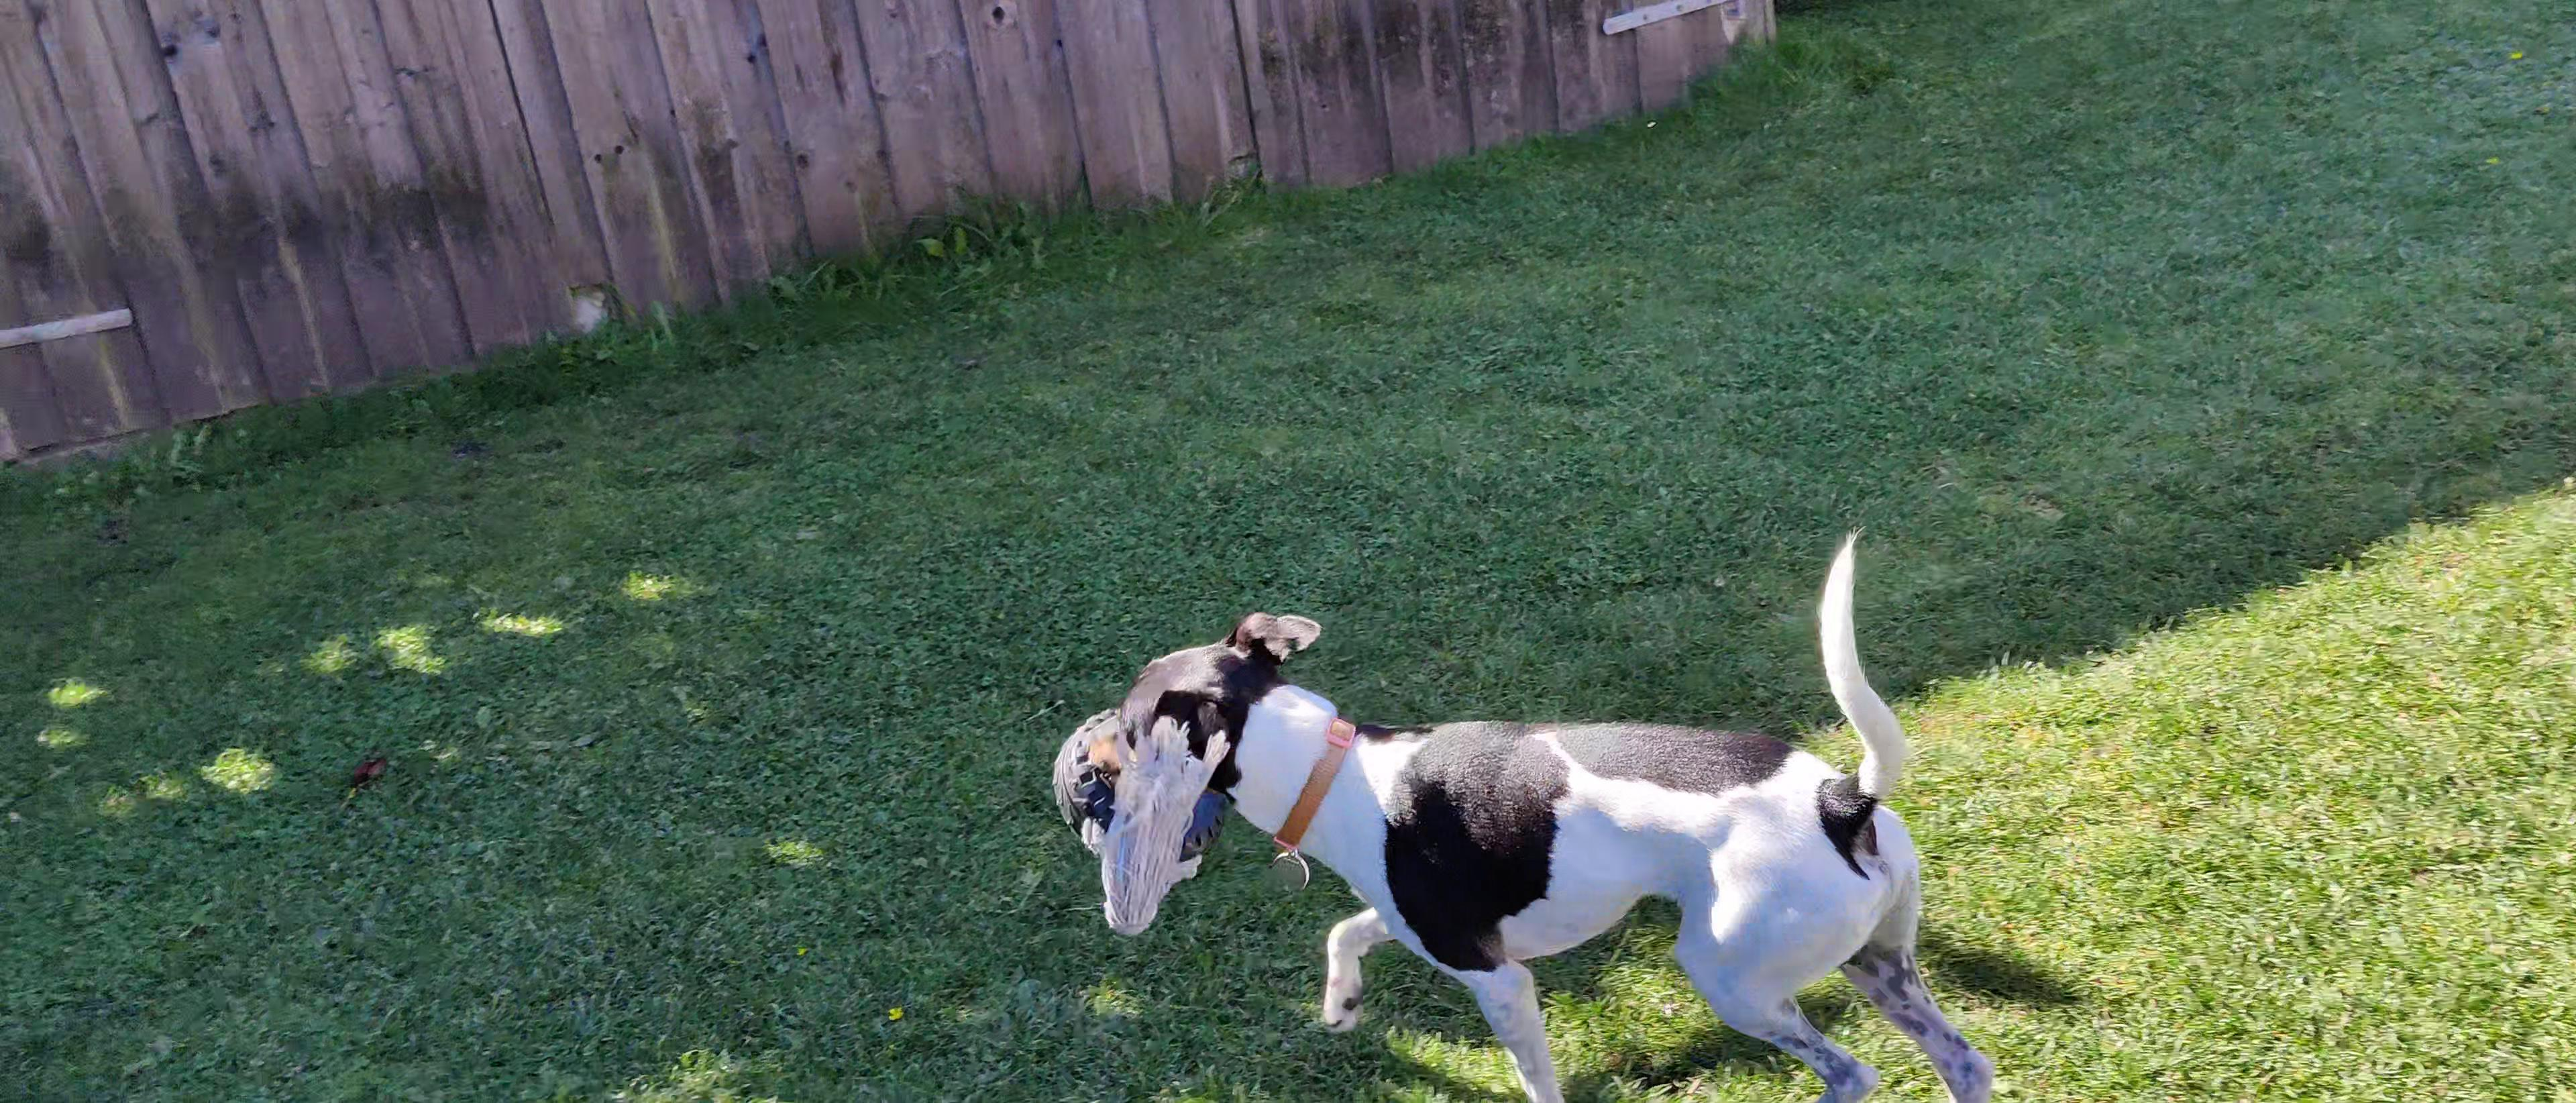Dog: (1086, 500, 2001, 1103)
